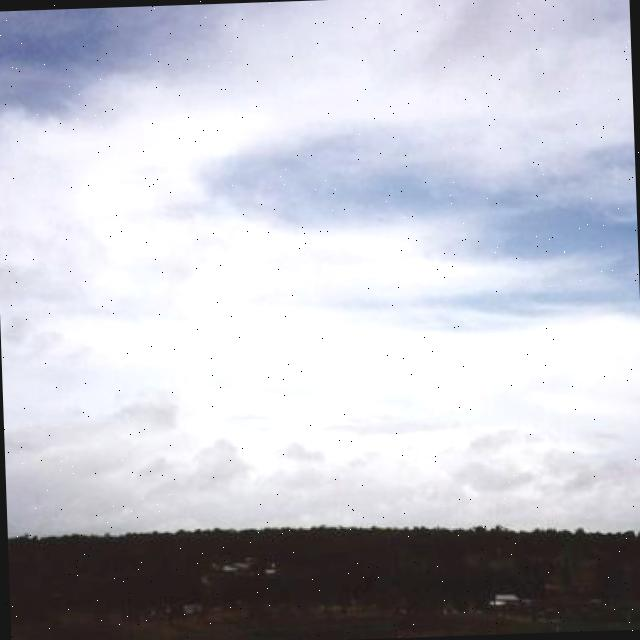St: (1, 37, 640, 457)
